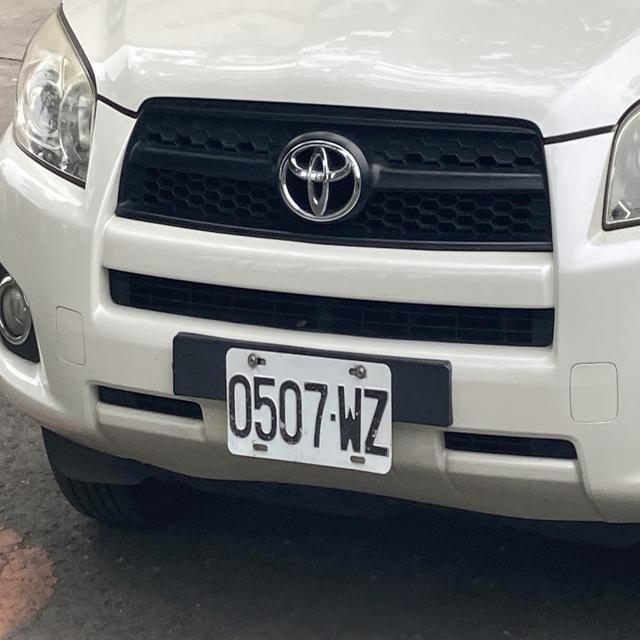license: (228, 353, 392, 467)
